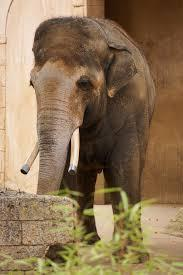elephant: (21, 17, 154, 242)
